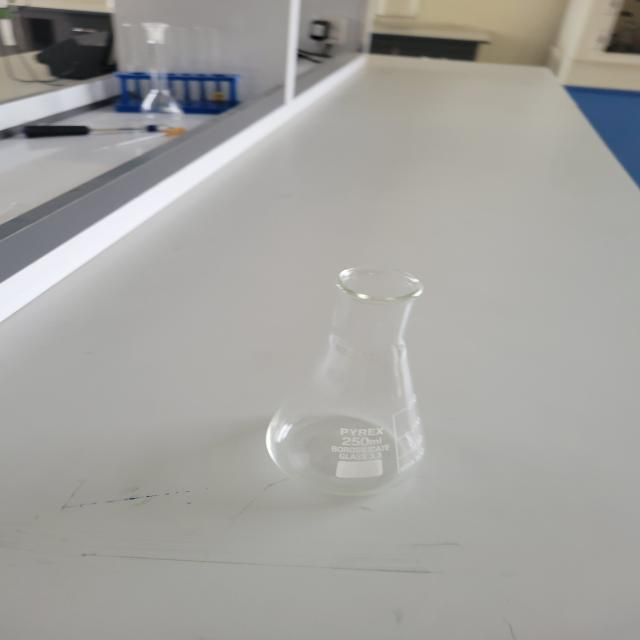Conical_Flask: (261, 224, 463, 527)
